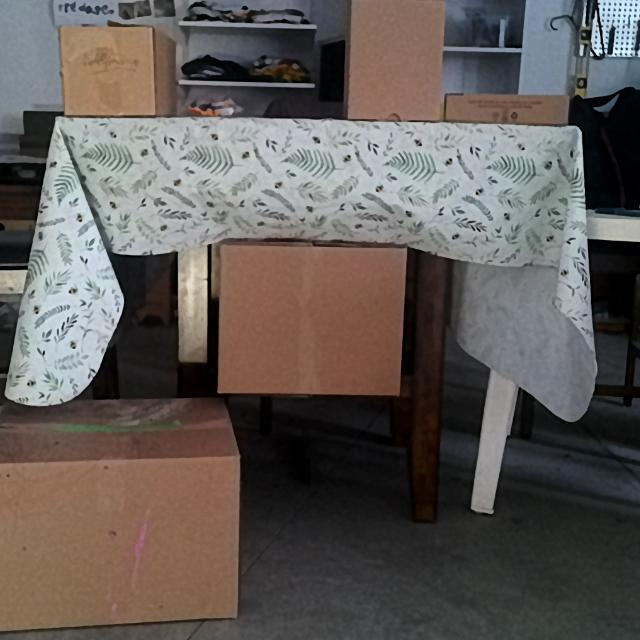box: (0, 456, 240, 625), (218, 249, 404, 395), (350, 0, 443, 119), (62, 27, 157, 115), (446, 93, 569, 124)
